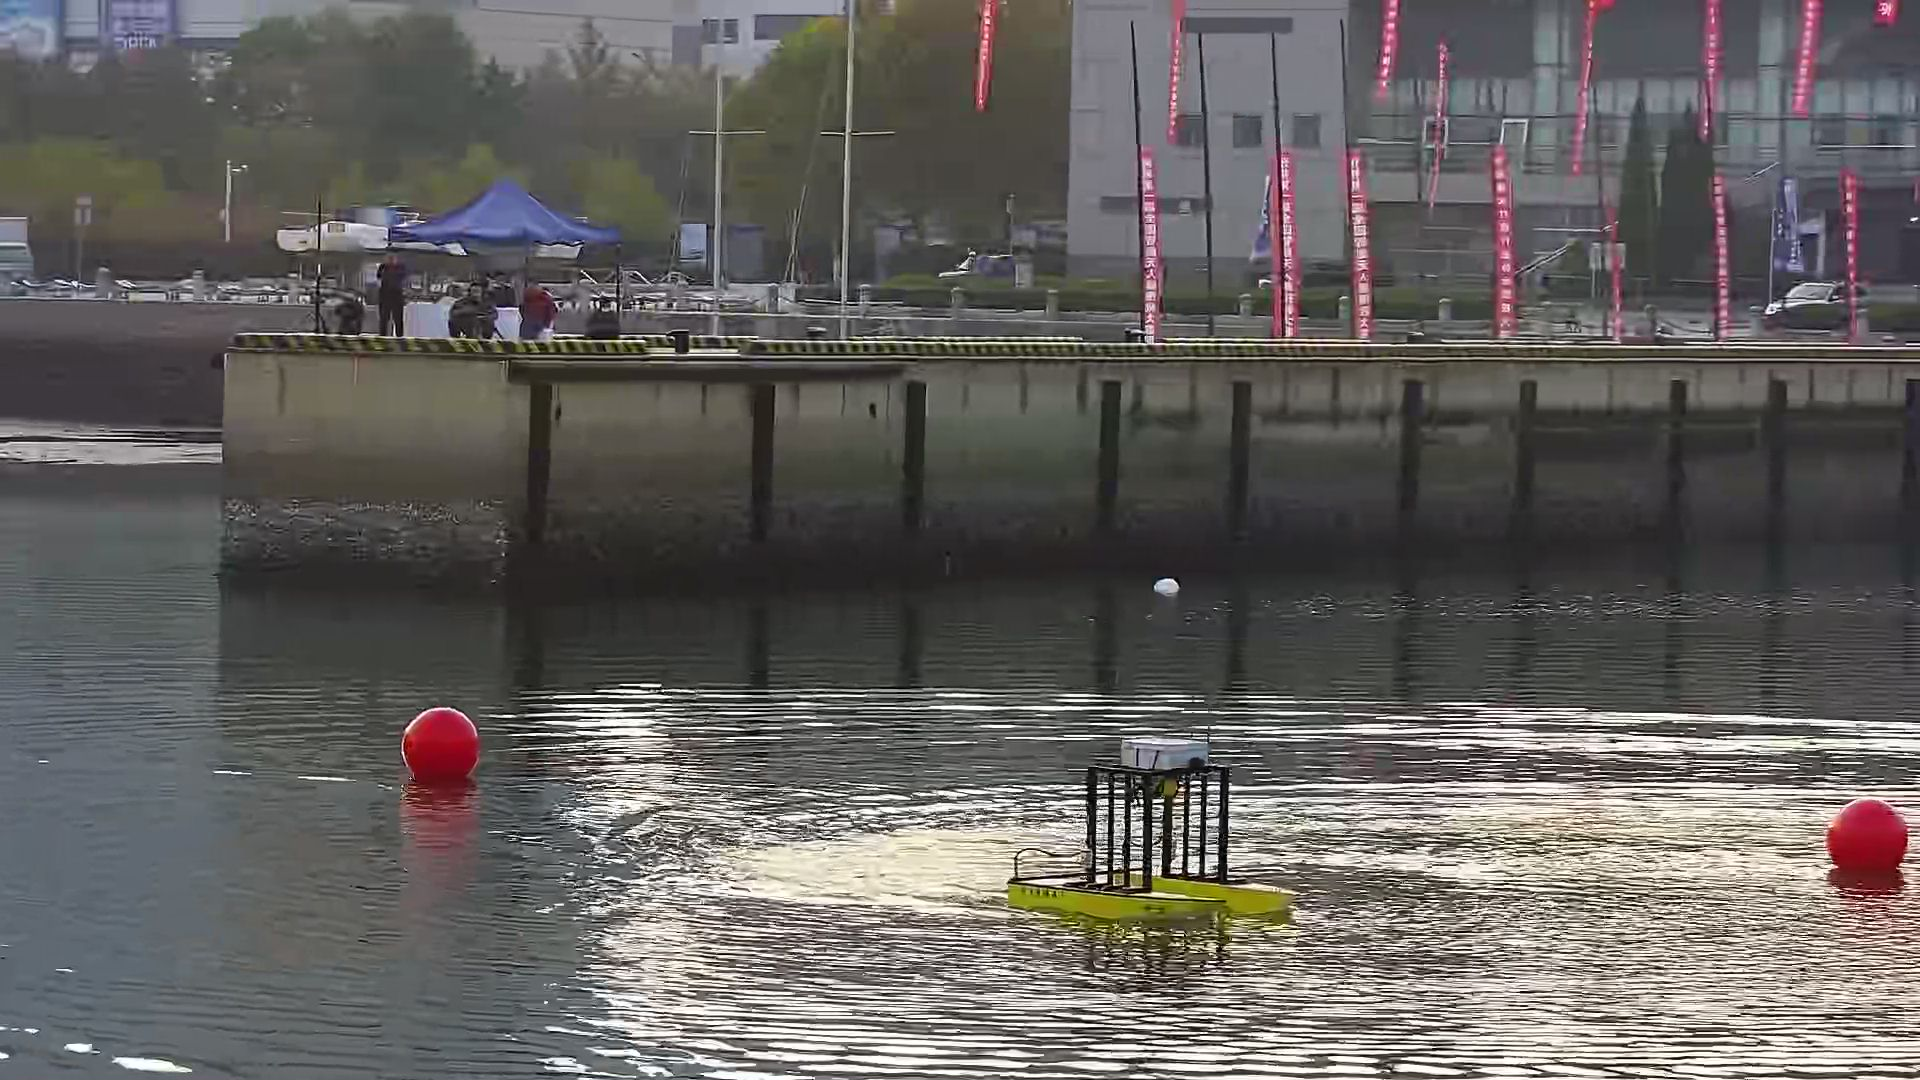ball: (397, 703, 491, 793)
boat: (1001, 727, 1304, 935), (1824, 796, 1912, 884)
rubbish: (1147, 578, 1185, 603)
